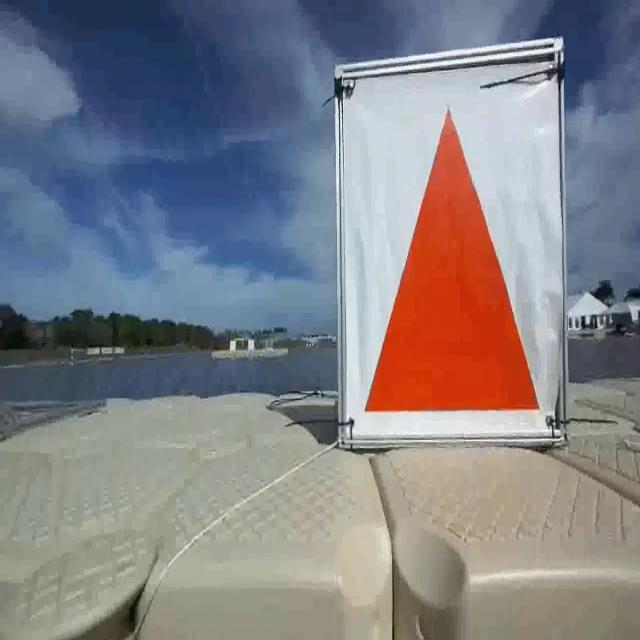red-dot: (340, 70, 555, 436)
